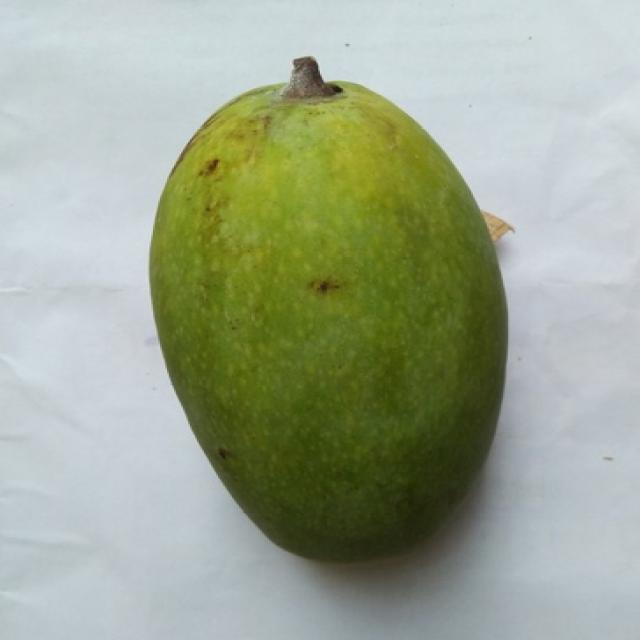Mango: (151, 58, 506, 560)
